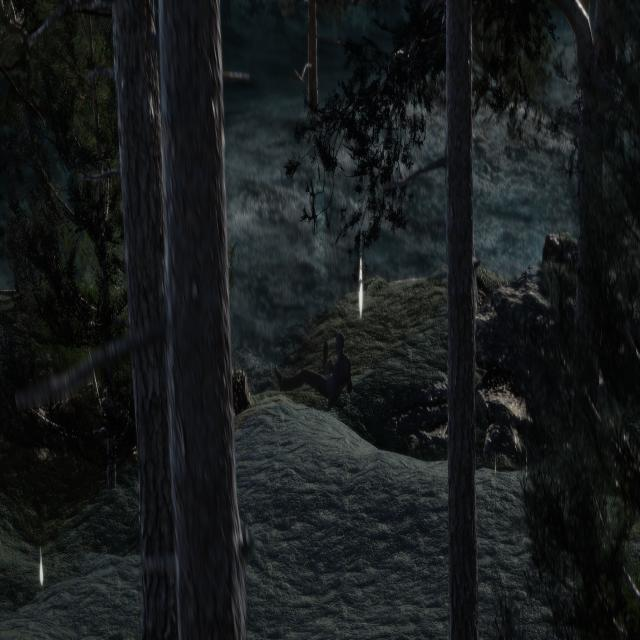Human: (270, 325, 363, 426)
